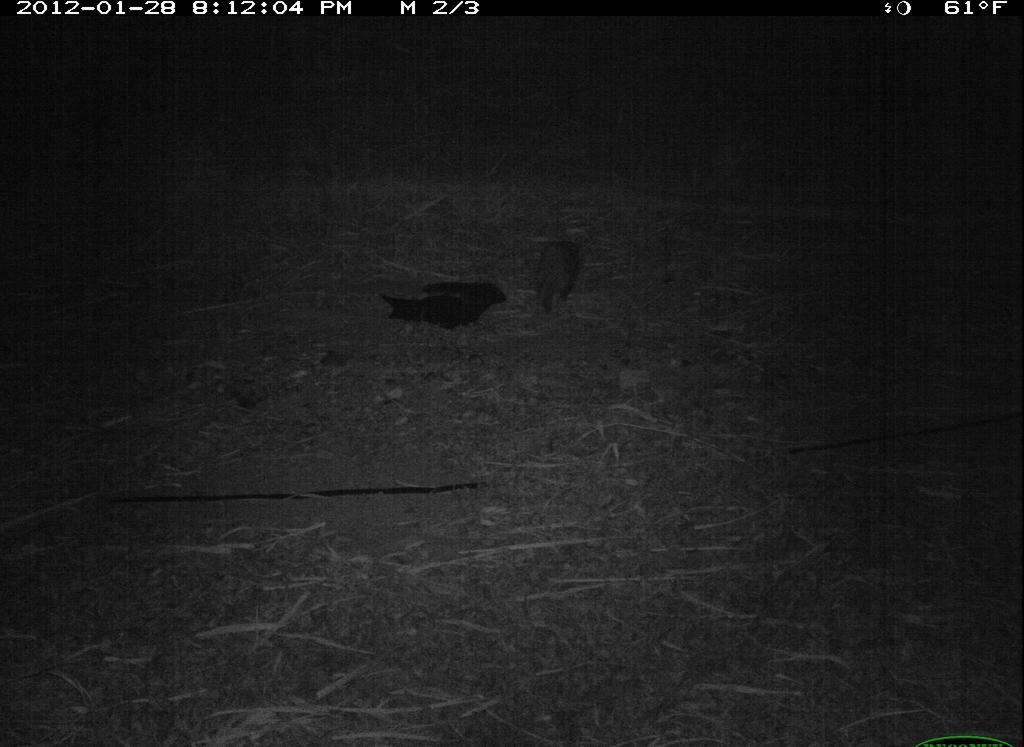opossum: (532, 227, 612, 326)
